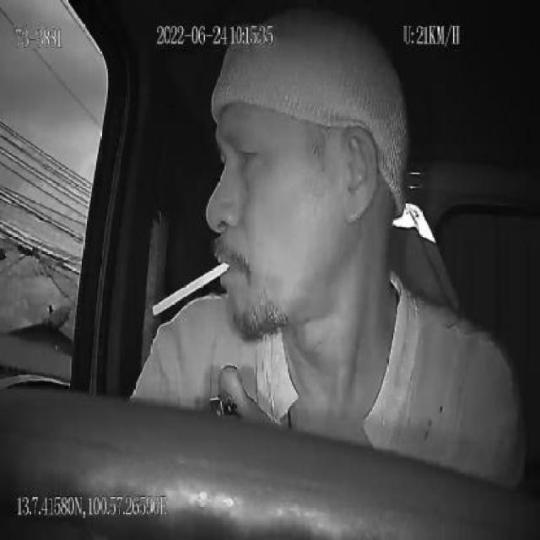smoking: (150, 259, 232, 322)
